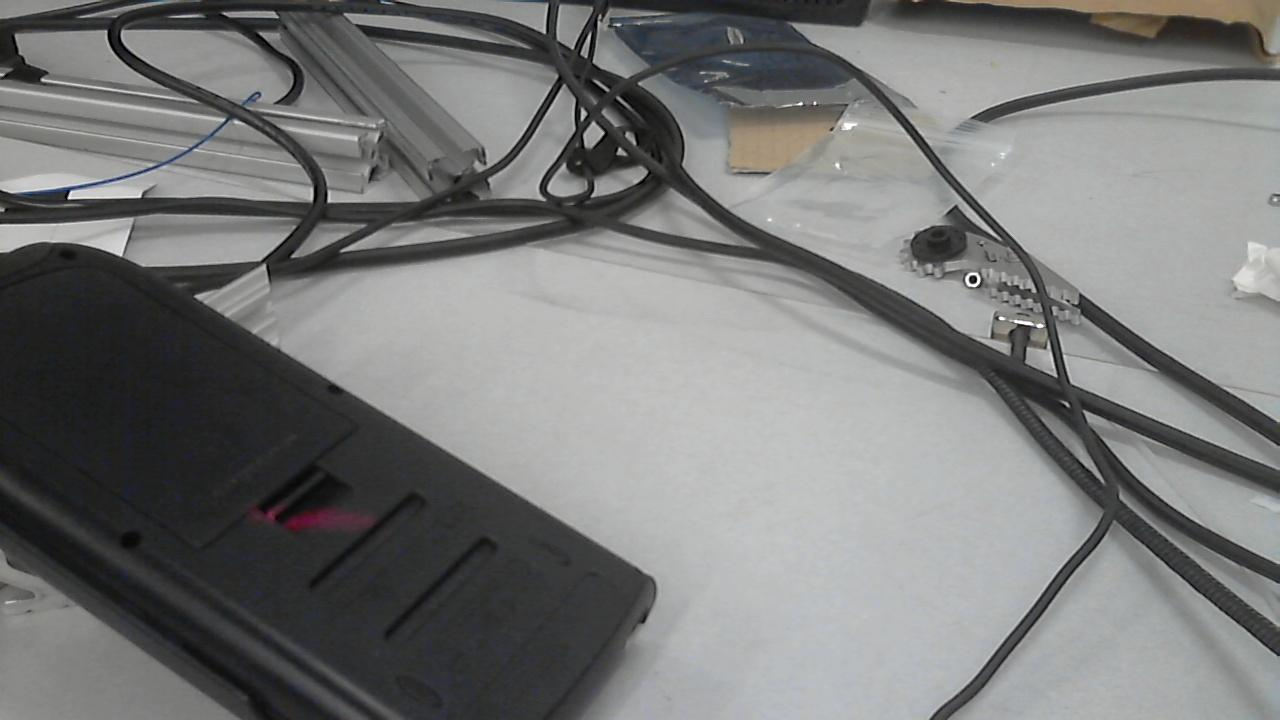Object graphing calculator slide case - Material plastic - Pdfname as1D2765rACT: (220, 484, 388, 547)
